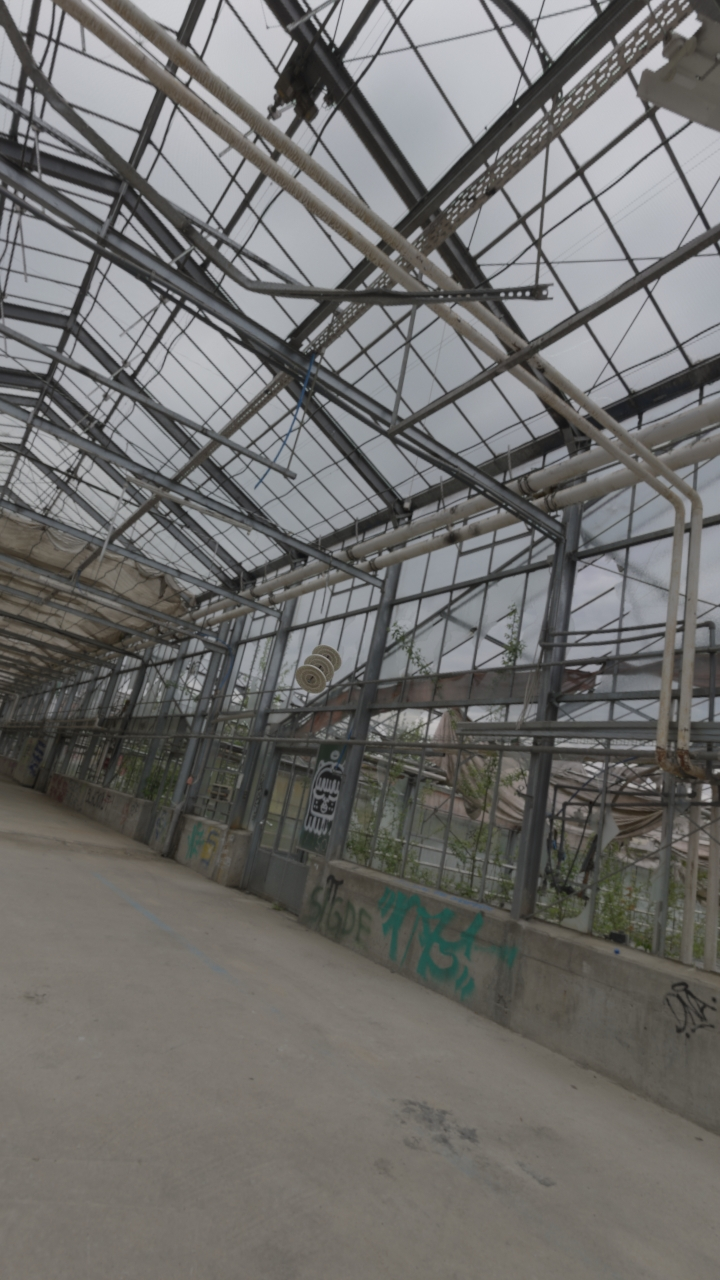ceramicinsulators: (295, 644, 342, 694)
